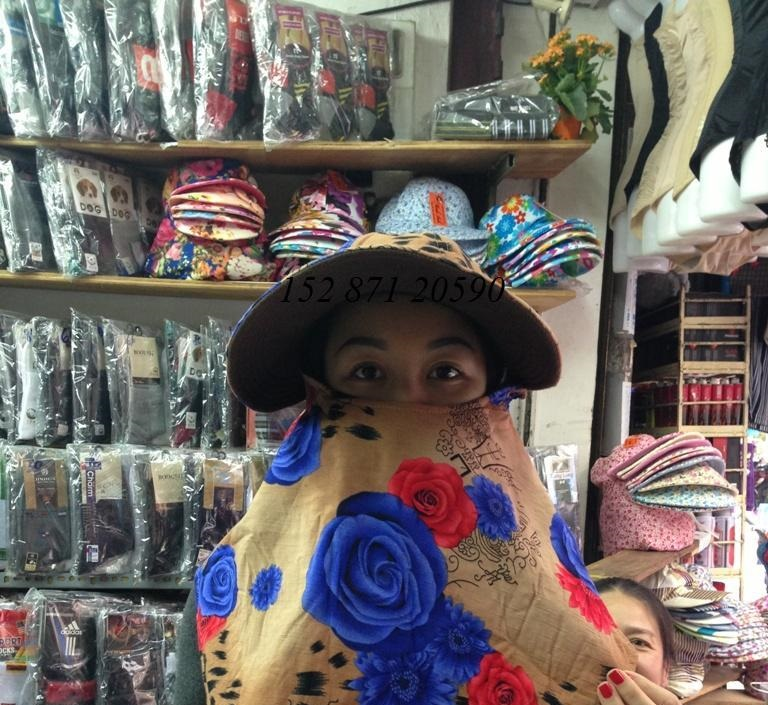face: (567, 594, 661, 704)
face_mask: (329, 285, 489, 478)
